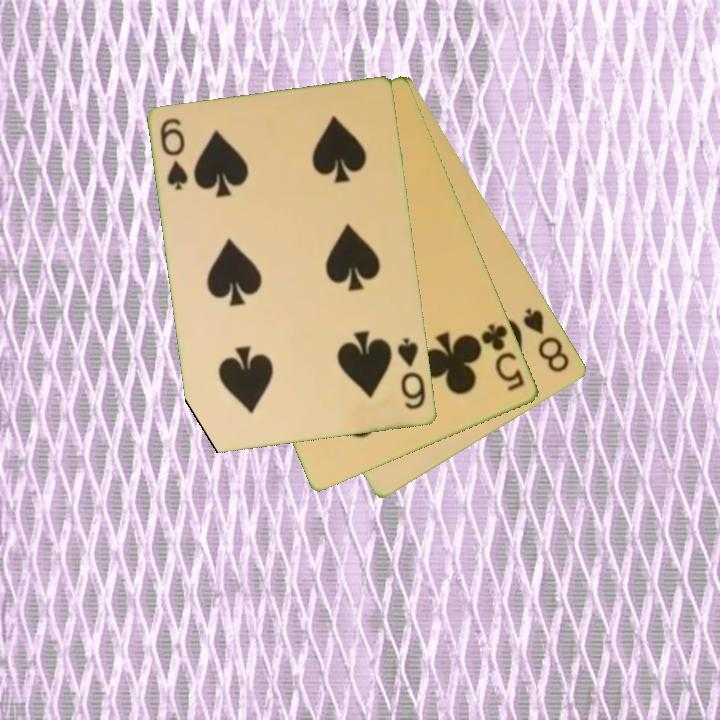5c: (478, 320, 528, 395)
6s: (394, 334, 429, 413), (157, 115, 191, 194)
8s: (520, 304, 573, 376)
